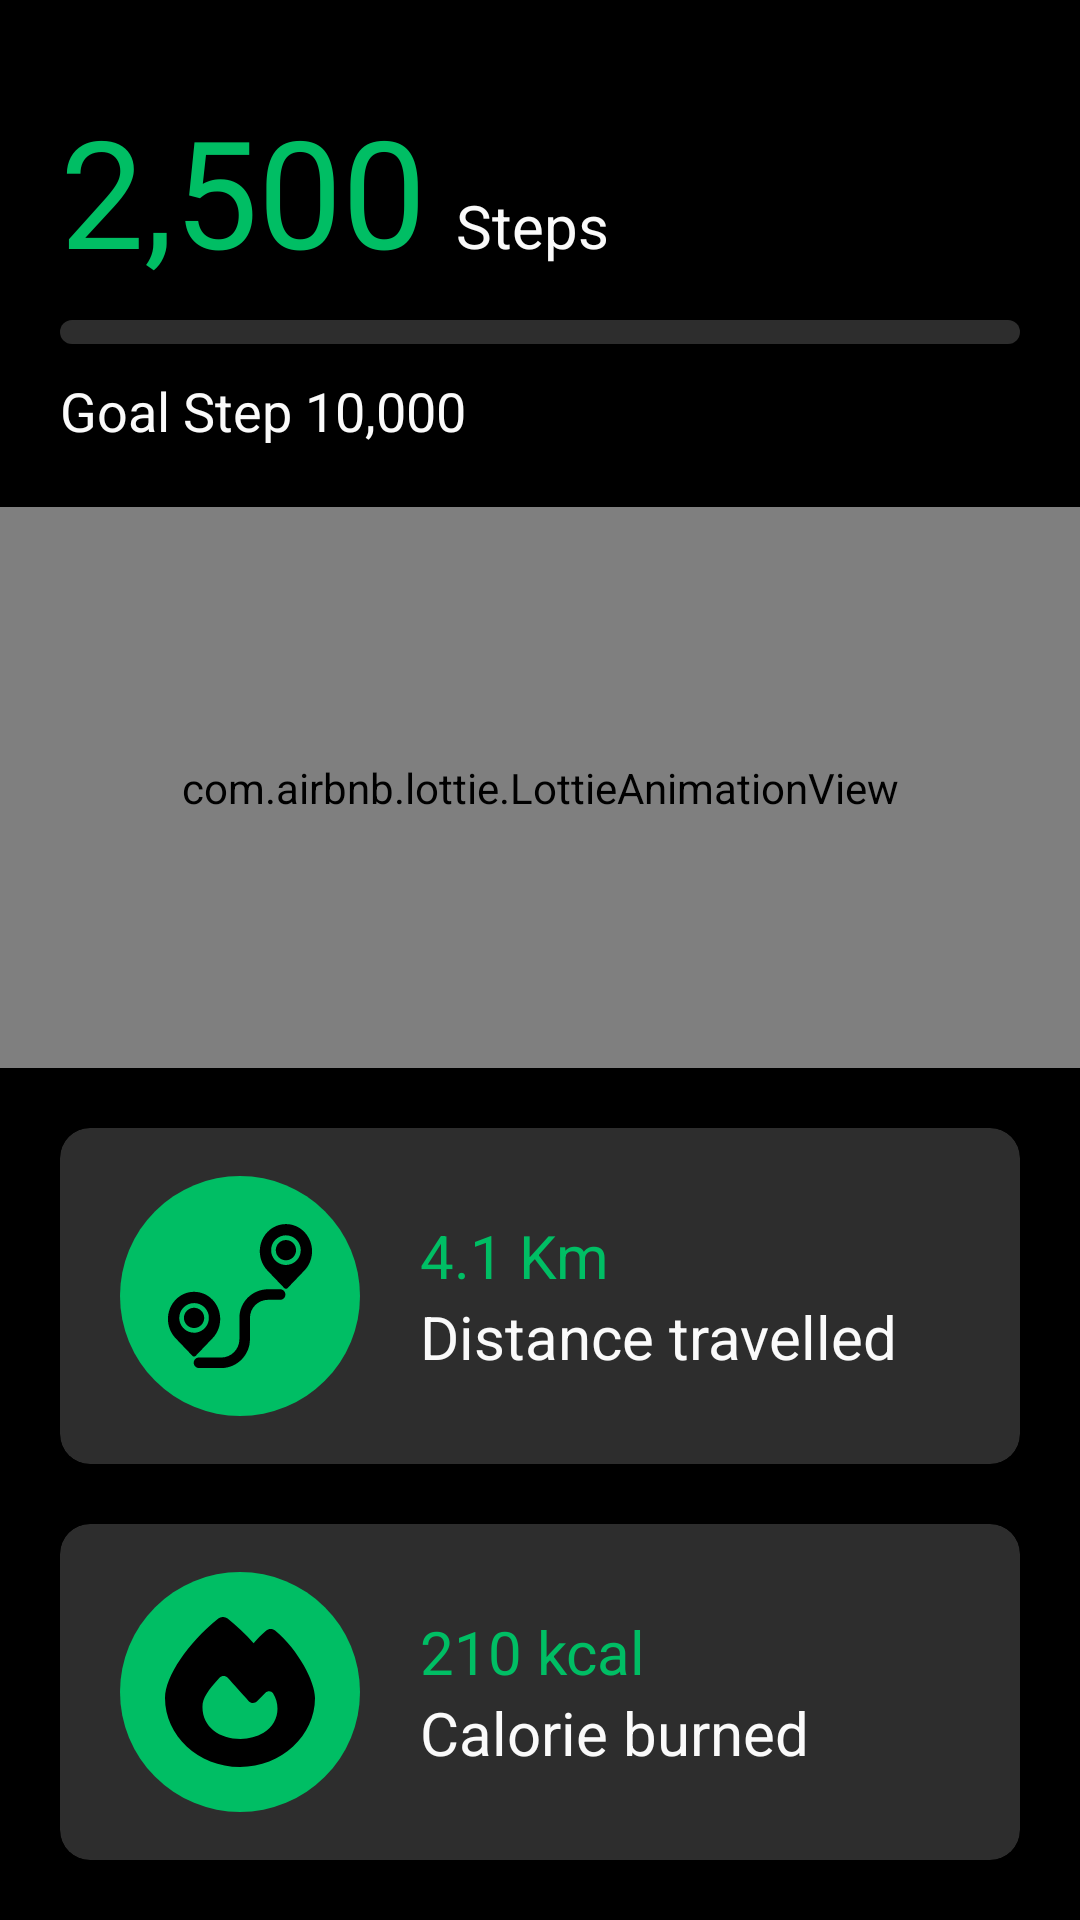

Point at icon controls on the screen. Image size 1080 x 1920, points as (x=x, y=y).
calories burn: (x=240, y=1692)
